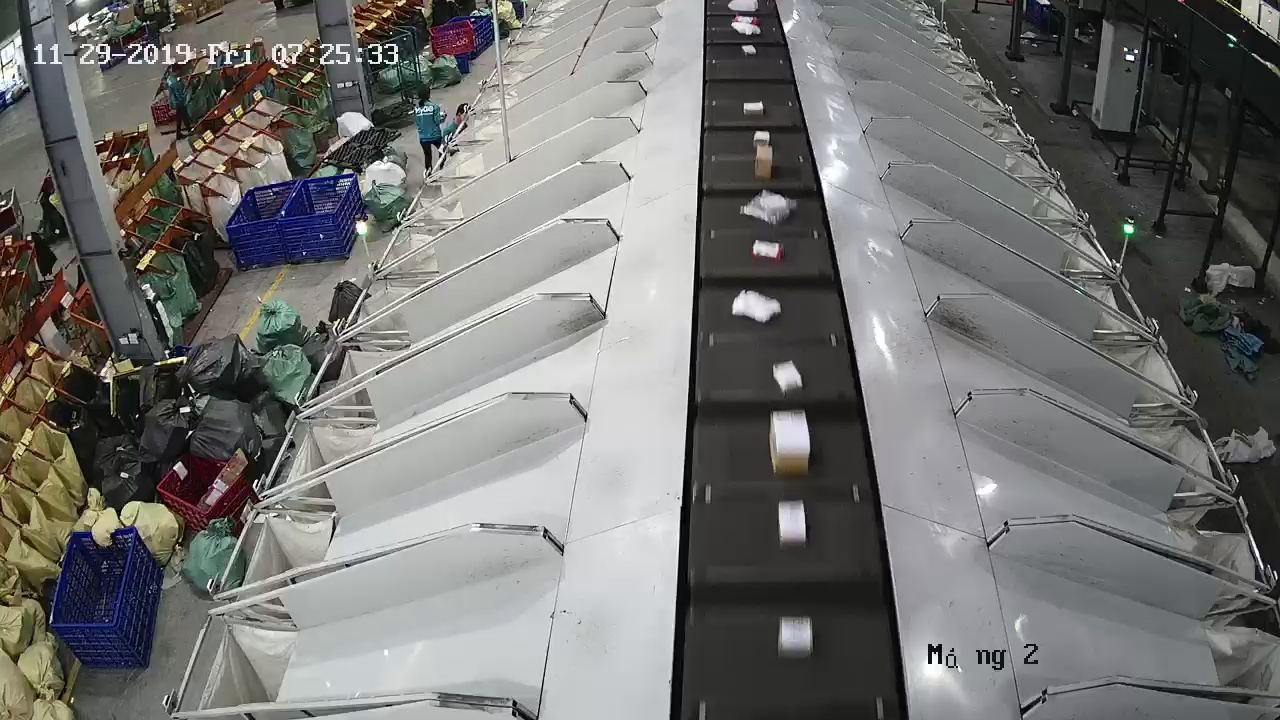parcel: (768, 408, 810, 477), (739, 189, 799, 225), (731, 288, 781, 322), (777, 615, 813, 659), (777, 499, 806, 548), (772, 360, 803, 394), (750, 238, 784, 263)
